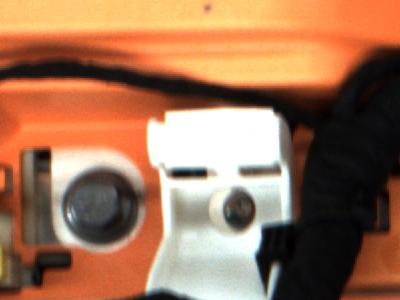nut_b: (54, 165, 141, 250)
